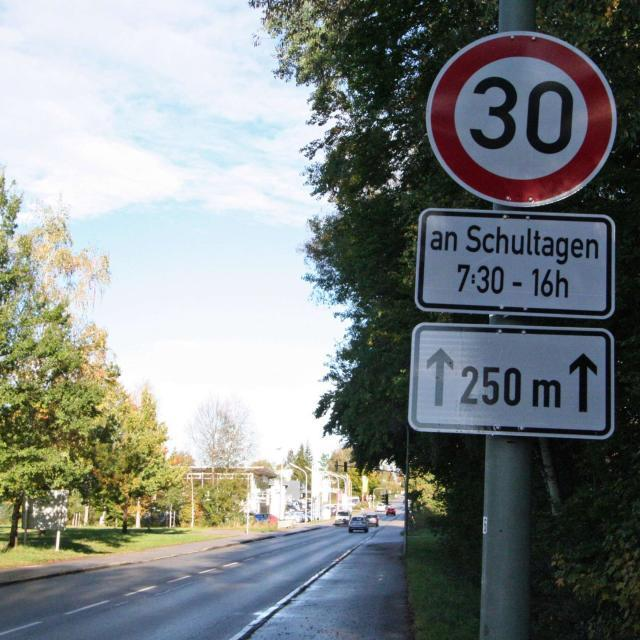Speed Limit -30-: (424, 31, 618, 206)
